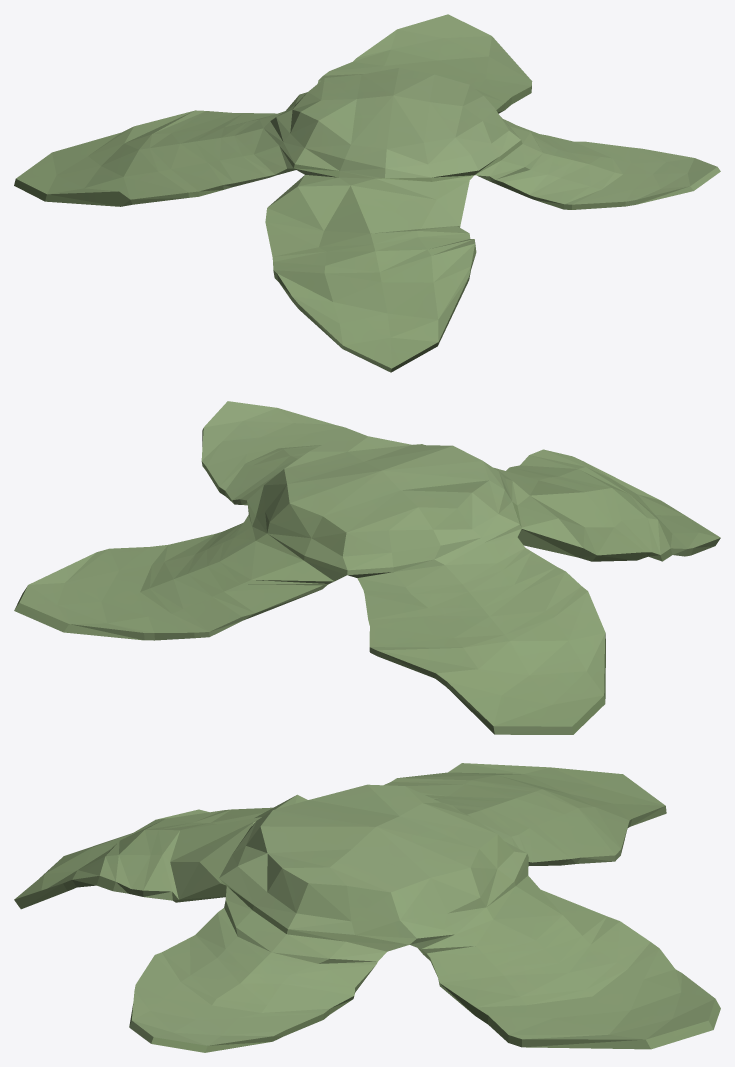
The model's file is flower_petal_1_a.obj.
3 renders of one model, top to bottom at view 1: azimuth 30°, elevation 25°; view 2: azimuth 150°, elevation 25°; view 3: azimuth 270°, elevation 25°, orthographic. The views are drawn at different scales.
Visible parts, largest first — view 1: flower_petal_1_a_Material; view 2: flower_petal_1_a_Material; view 3: flower_petal_1_a_Material.
Boxes of the visible parts, left/top/right/bottom form: flower_petal_1_a_Material: left=14, top=14, right=720, bottom=372; flower_petal_1_a_Material: left=14, top=401, right=720, bottom=734; flower_petal_1_a_Material: left=14, top=763, right=720, bottom=1052.
Size of the model in its own units: 0.2183 by 0.0554 by 0.2162.
